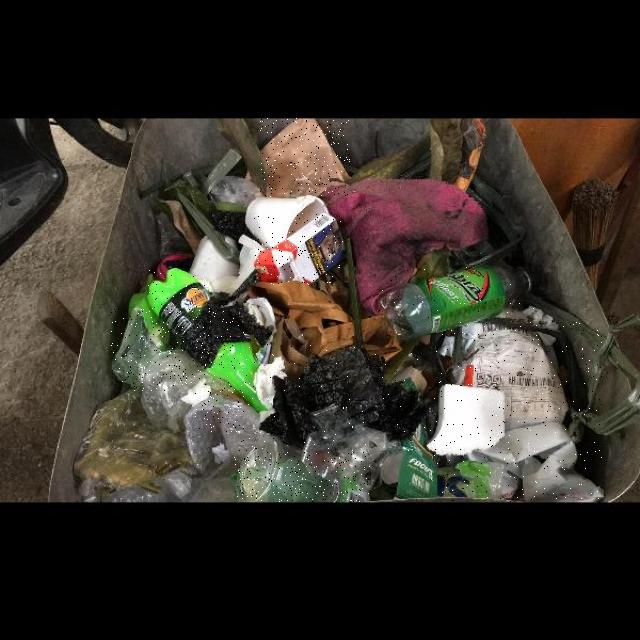paper: (261, 119, 350, 198), (254, 213, 344, 285)
plastic: (436, 321, 602, 502), (260, 345, 430, 452), (111, 308, 244, 432), (73, 391, 195, 502), (380, 265, 541, 341), (234, 439, 370, 502), (147, 269, 209, 342), (205, 343, 268, 413)
styrofoam: (428, 384, 506, 457)
